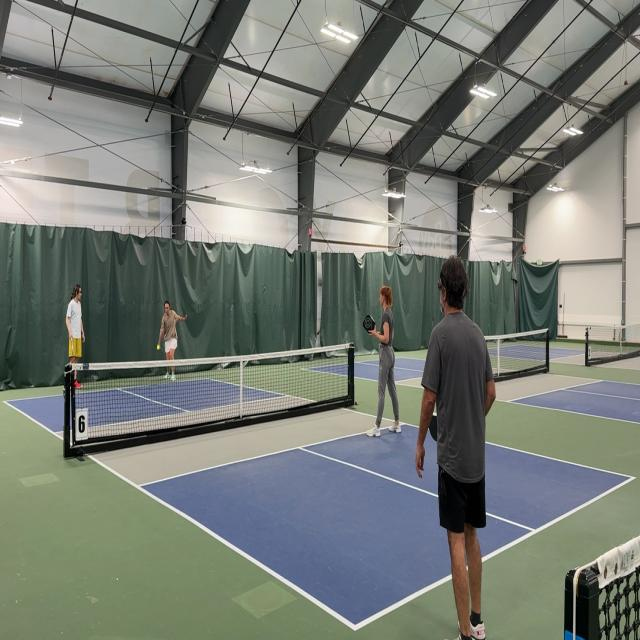ball: (157, 344, 160, 351)
